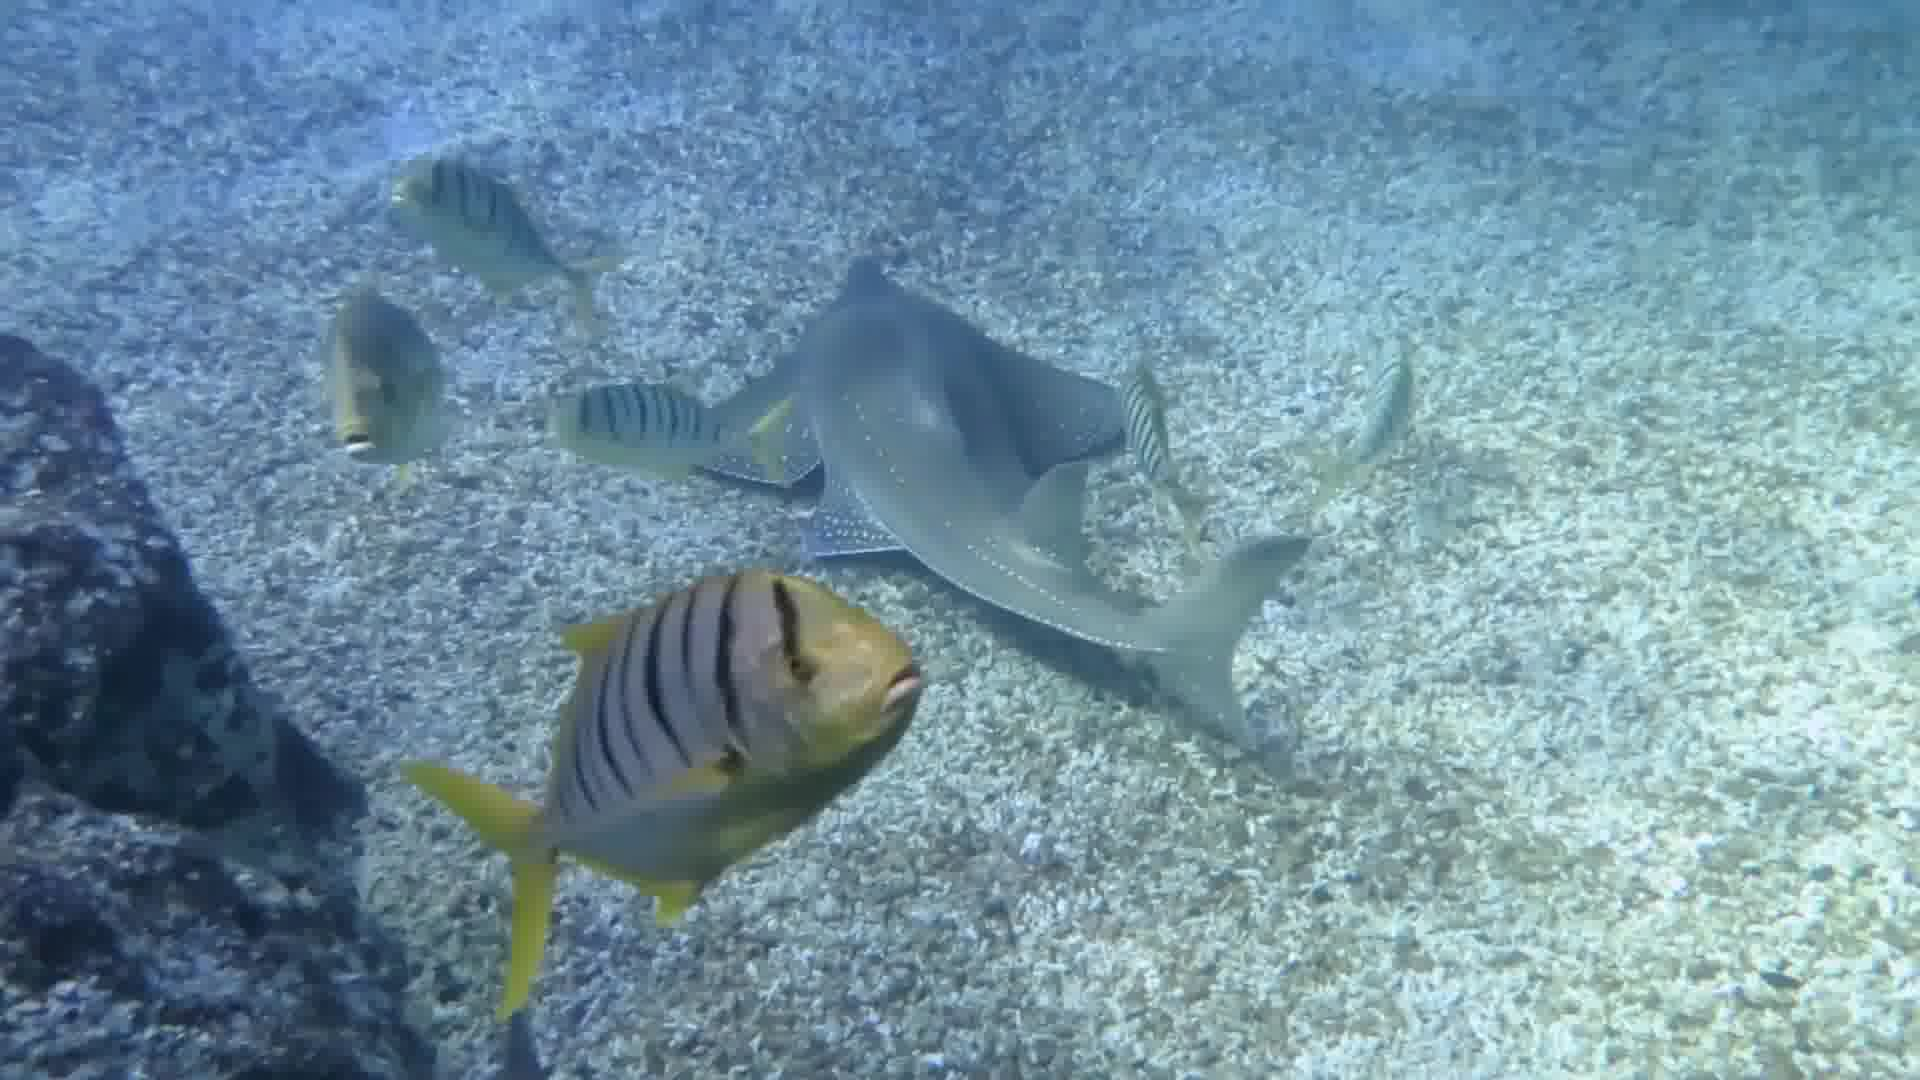Rhychobatus djiddensis: (756, 190, 1371, 713)
